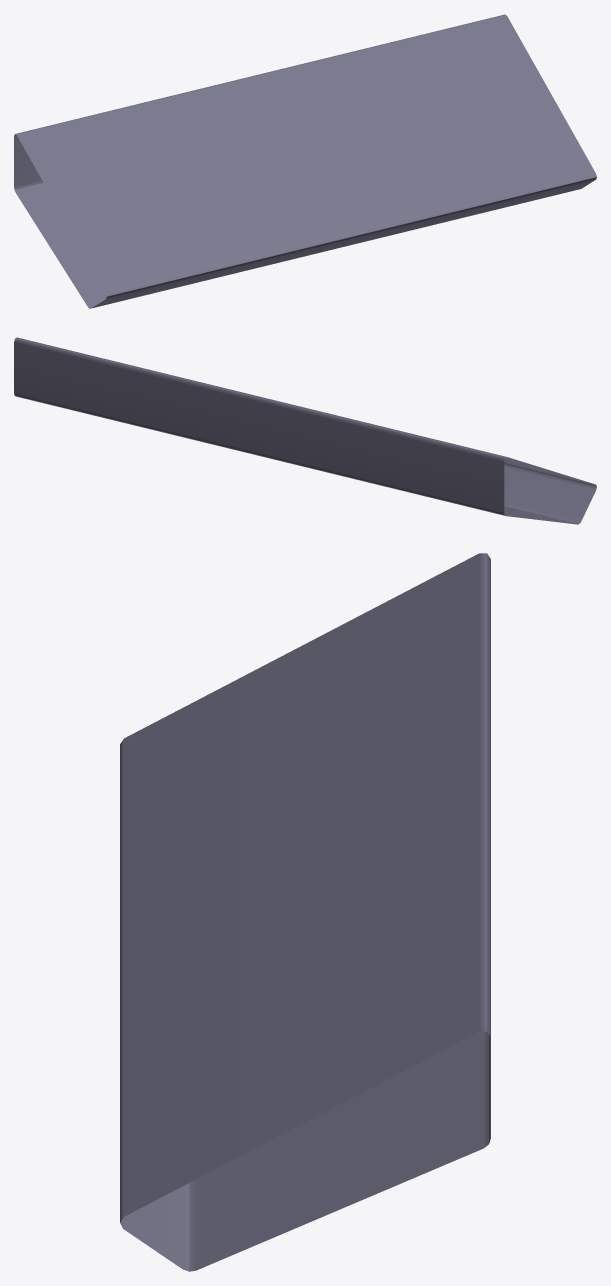
Rendered from SM_BalconyThingM.fbx.
The picture shows the model from 3 angles, top to bottom: view 1: azimuth 30°, elevation 25°; view 2: azimuth 150°, elevation 25°; view 3: azimuth 270°, elevation 25°; orthographic projection. The views are drawn at different scales.
Visible parts, largest first — view 1: pCube10; view 2: pCube10; view 3: pCube10.
Boxes of the visible parts, x1,y1,x2,y2 form: pCube10: (14, 14, 596, 308); pCube10: (14, 337, 596, 524); pCube10: (120, 553, 490, 1271).
Bounding box in the file's own units: 300 × 70.19 × 98.29.
